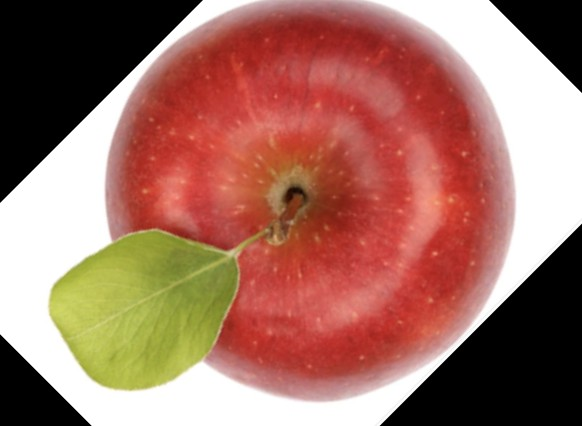fresh_apple: (105, 1, 518, 406)
